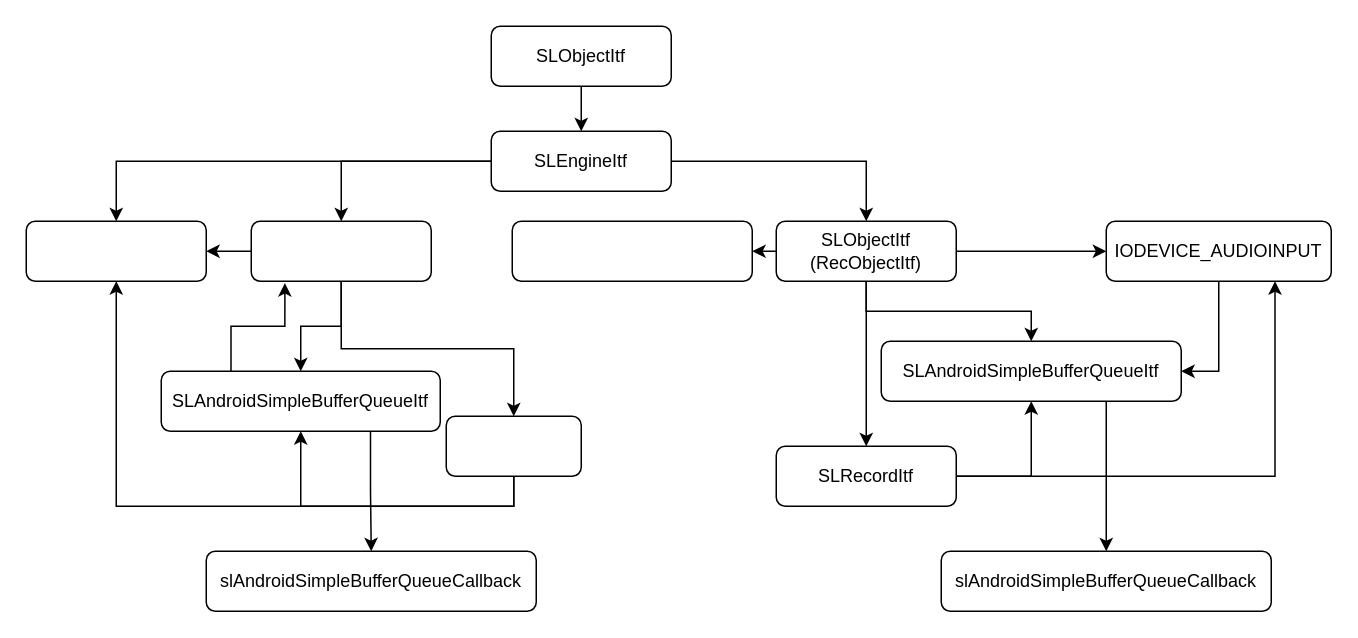
Some shapes in this 1358 by 638 pixel diagram are drawn without their labels. The shapes that lost their labels are listed below. From the top down, each one's box as (x1, y1, x2, y2) in pixels, then its label:
(25, 220, 206, 281): SLObjectItf (OutputMixObjectItf)
(250, 220, 431, 281): SLObjectItf (PlayerObjectItf)
(511, 220, 752, 281): SLAndroidConfigurationItf
(445, 415, 581, 476): SLPlayItf
